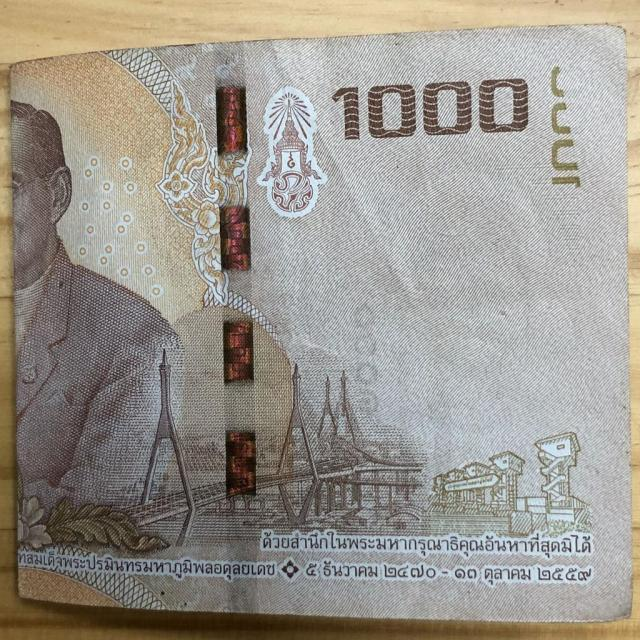THAI1000: (11, 25, 632, 623)
